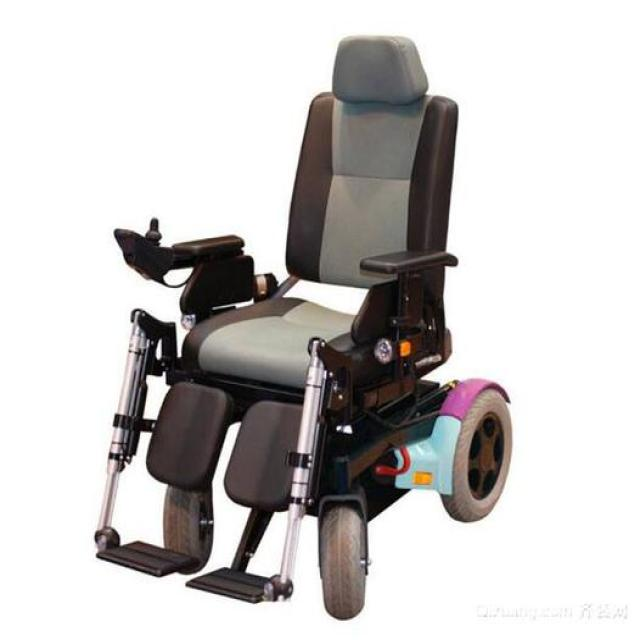wheelchairs: (84, 27, 522, 628)
